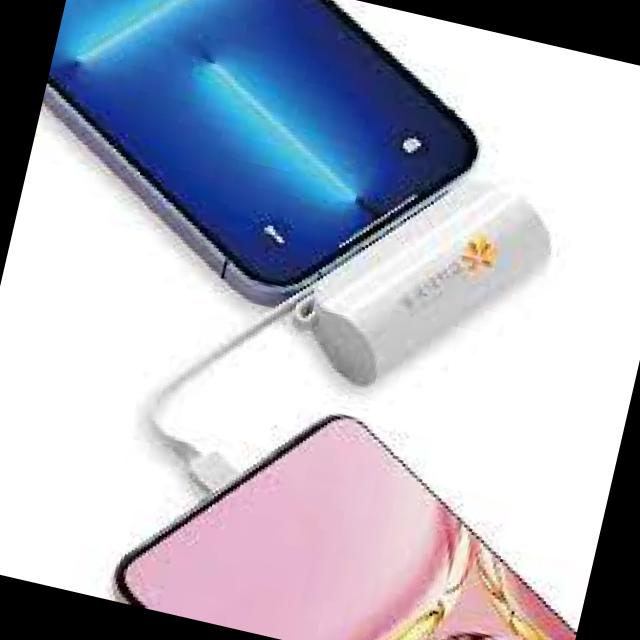portable-charger: (288, 146, 562, 424)
